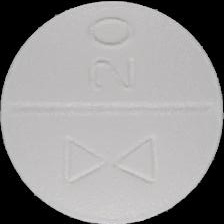63187-281: (0, 0, 224, 224)
